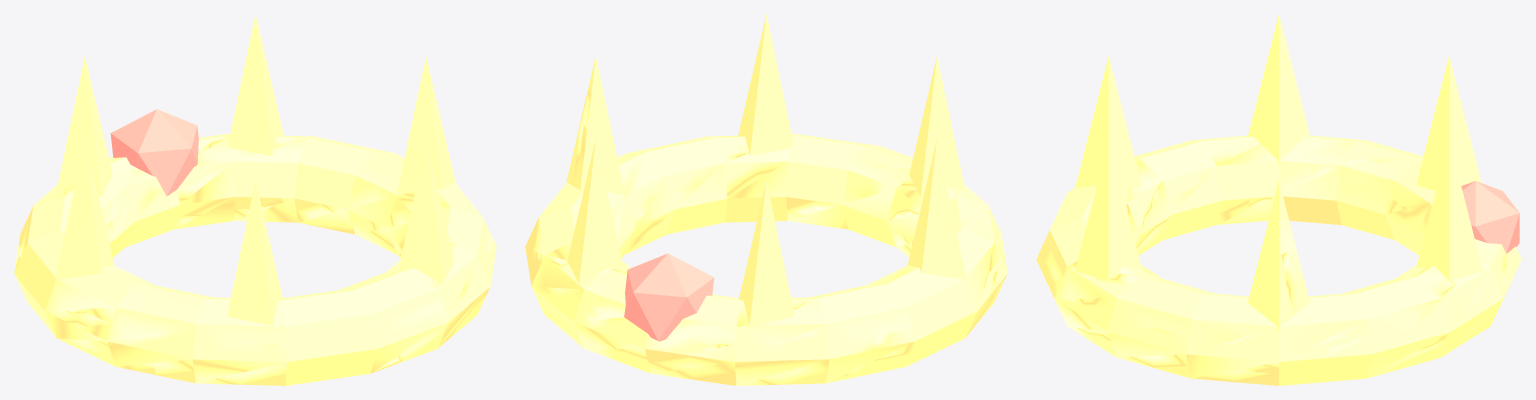
File: crown.glb
The picture shows the model from 3 angles, left to right: view 1: azimuth 30°, elevation 25°; view 2: azimuth 150°, elevation 25°; view 3: azimuth 270°, elevation 25°; orthographic projection.
Parts seen in each view (by area): view 1: CrownBand; view 2: CrownBand; view 3: CrownBand.
Boxes of the visible parts, x1,y1,x2,y2 form: CrownBand: (14,14,496,385); CrownBand: (525,14,1007,385); CrownBand: (1036,15,1521,385).
Size of the model in its own units: 0.84 by 0.39 by 0.84.
